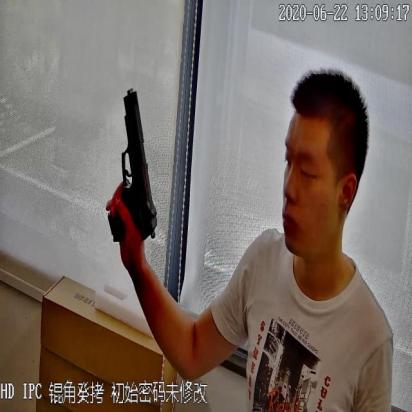Gun: (107, 86, 160, 236)
